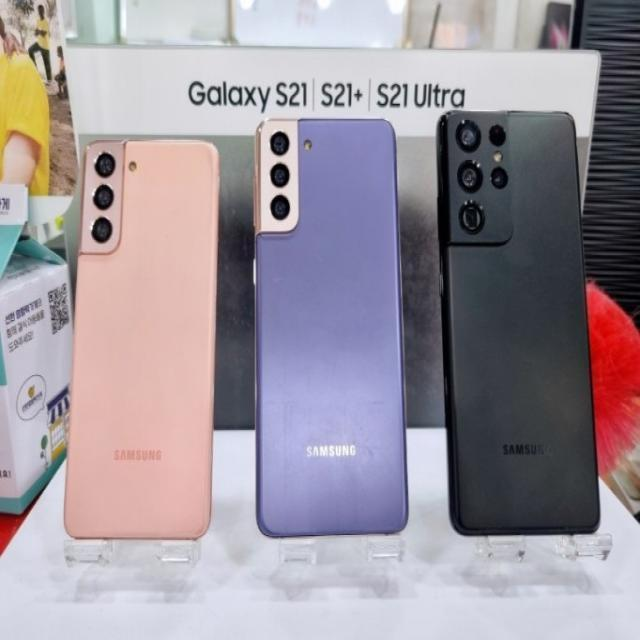phone: (438, 104, 604, 540), (252, 113, 414, 540), (62, 136, 218, 538)
